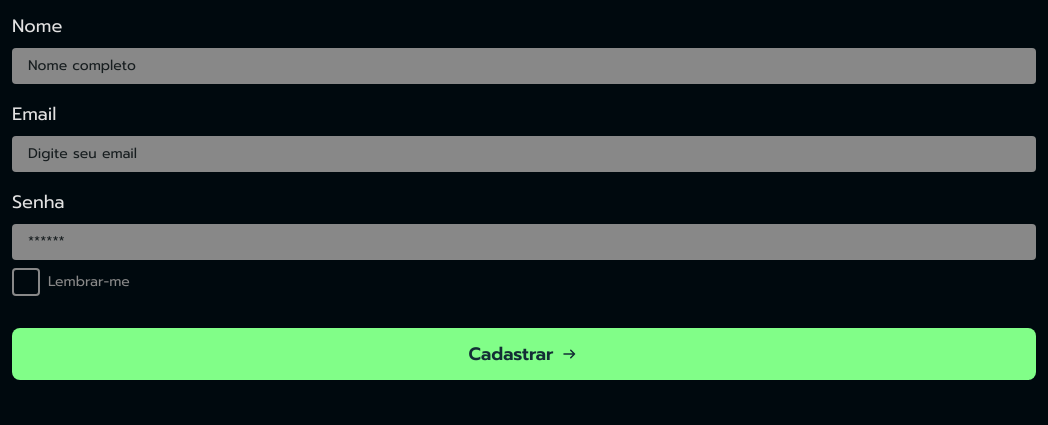
Test: SignUpForm › rejects the invalid email ana.com
Type "Ana Souza" into the field labelled "Nome" at (524, 66), box [12, 48, 1036, 84]
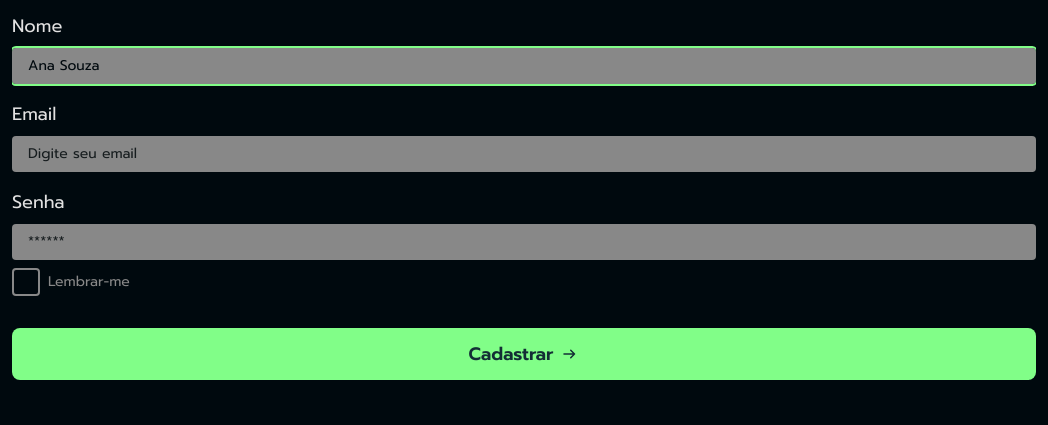
Type "ana.com" into the field labelled "Email" at (524, 154), box [12, 136, 1036, 172]
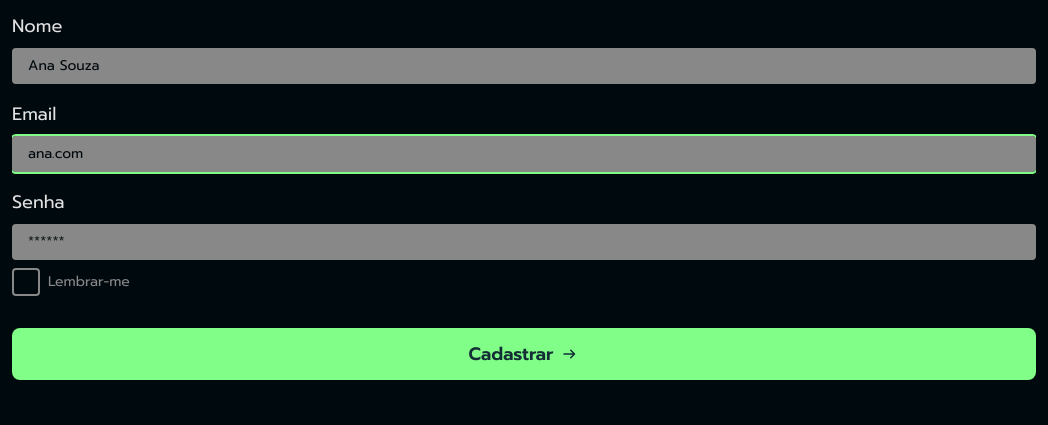
Type "segredo" into the password field labelled "Senha" at (524, 242), box [12, 224, 1036, 260]
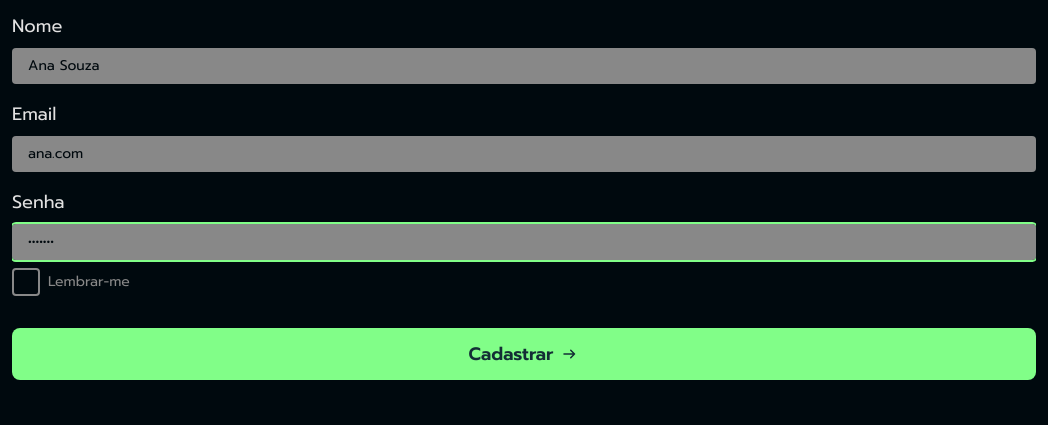
Click the button "Cadastrar" at (524, 354), box [12, 328, 1036, 380]
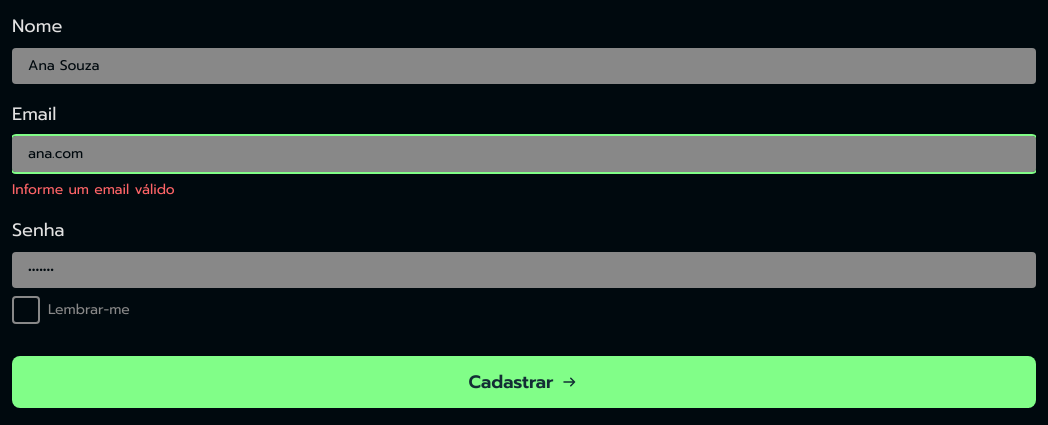
Now the text "Informe um email válido" is shown, box [12, 179, 175, 200]
